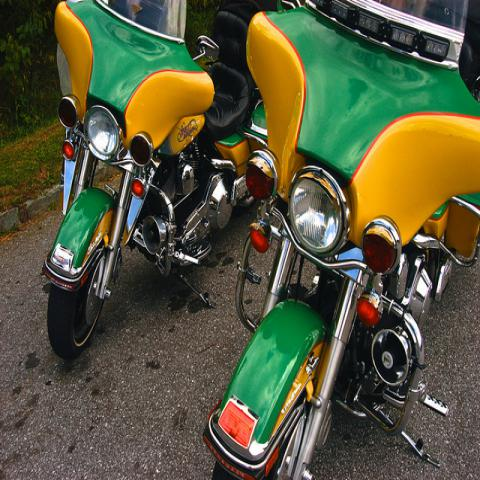motorcycle: (203, 0, 479, 479), (42, 1, 270, 360)
